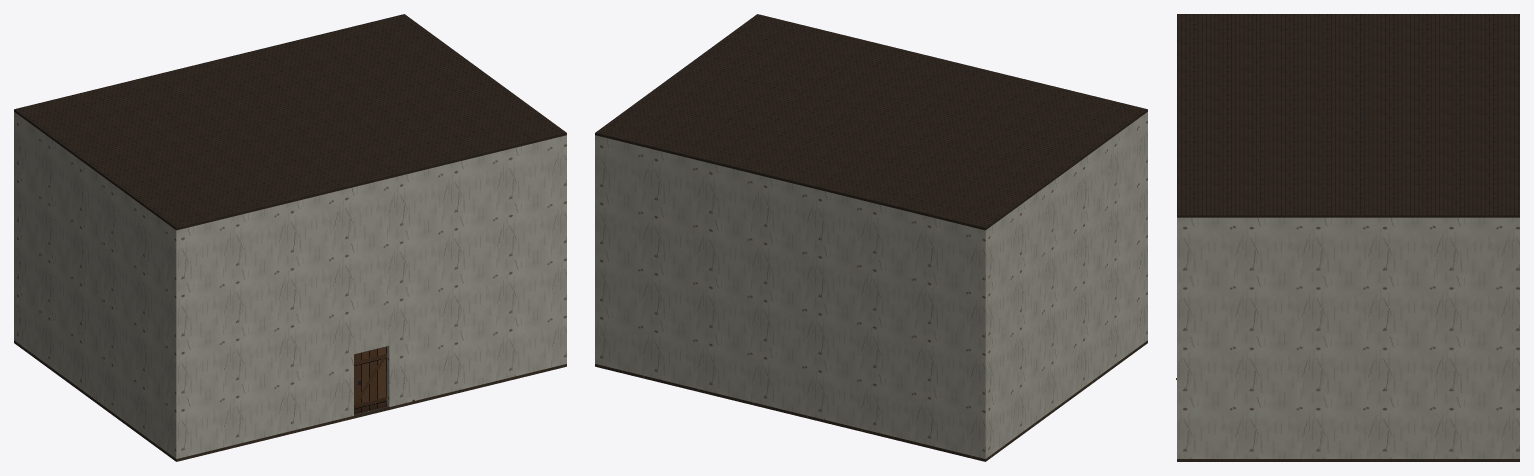
Rendered from alambique.glb.
The picture shows the model from 3 angles, left to right: view 1: azimuth 30°, elevation 25°; view 2: azimuth 150°, elevation 25°; view 3: azimuth 270°, elevation 25°; orthographic projection. The views are drawn at different scales.
Visible parts, largest first — view 1: sala-col, teto-col; view 2: sala-col, teto-col; view 3: sala-col, teto-col.
Boxes of the visible parts, box(x1,y1,x2,y2) form: sala-col: box(14, 112, 566, 461); teto-col: box(14, 14, 566, 230); sala-col: box(595, 112, 1147, 461); teto-col: box(595, 14, 1147, 230); sala-col: box(1177, 217, 1519, 461); teto-col: box(1177, 14, 1519, 217).
Bounding box in the file's own units: 14.3 × 8.18 × 10.33.
17 materials, 17 textured.
